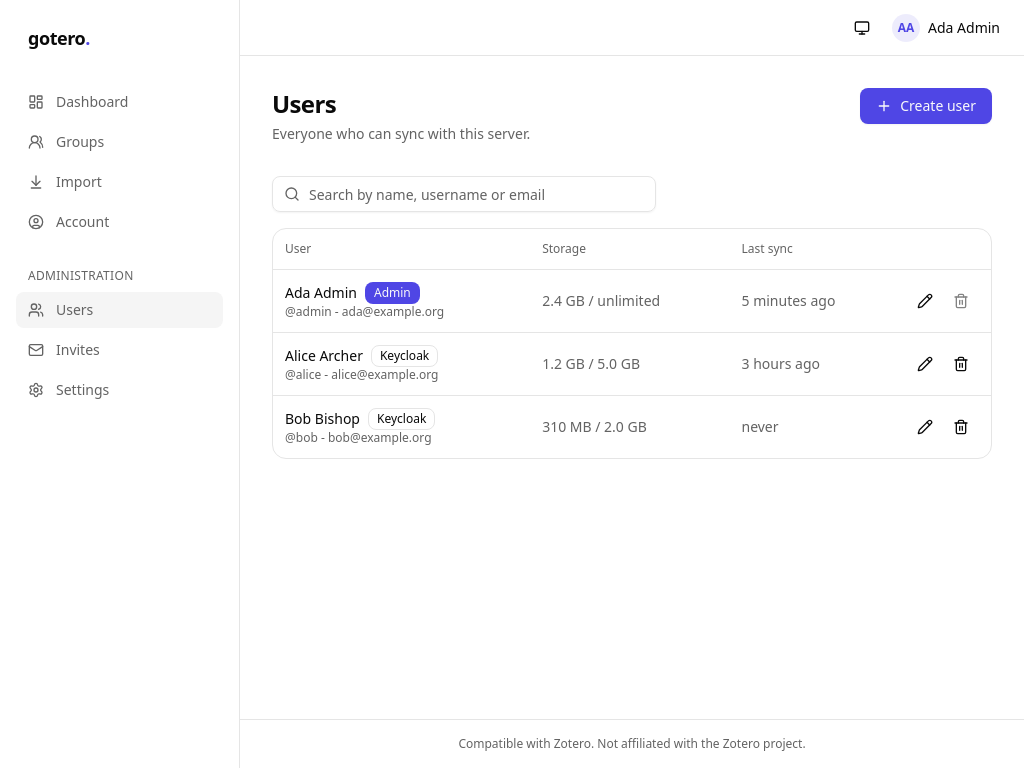
it: admin users › requires typing the username to delete a user
Click the button named "Delete bob".
click(961, 426)  # box [943, 408, 979, 444]
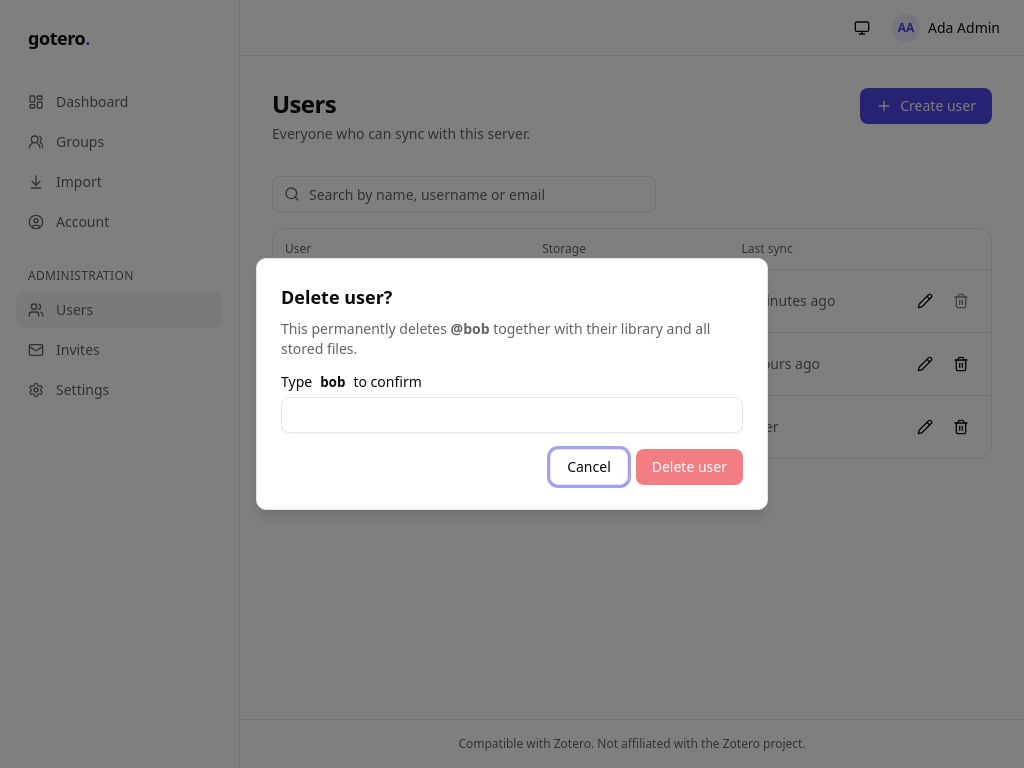
Result: the button "Delete user" is disabled at [636, 449, 743, 485]
Type "bob" into the field labelled "Type bob to confirm".
click(512, 415); type("bob")  # box [281, 397, 743, 433]
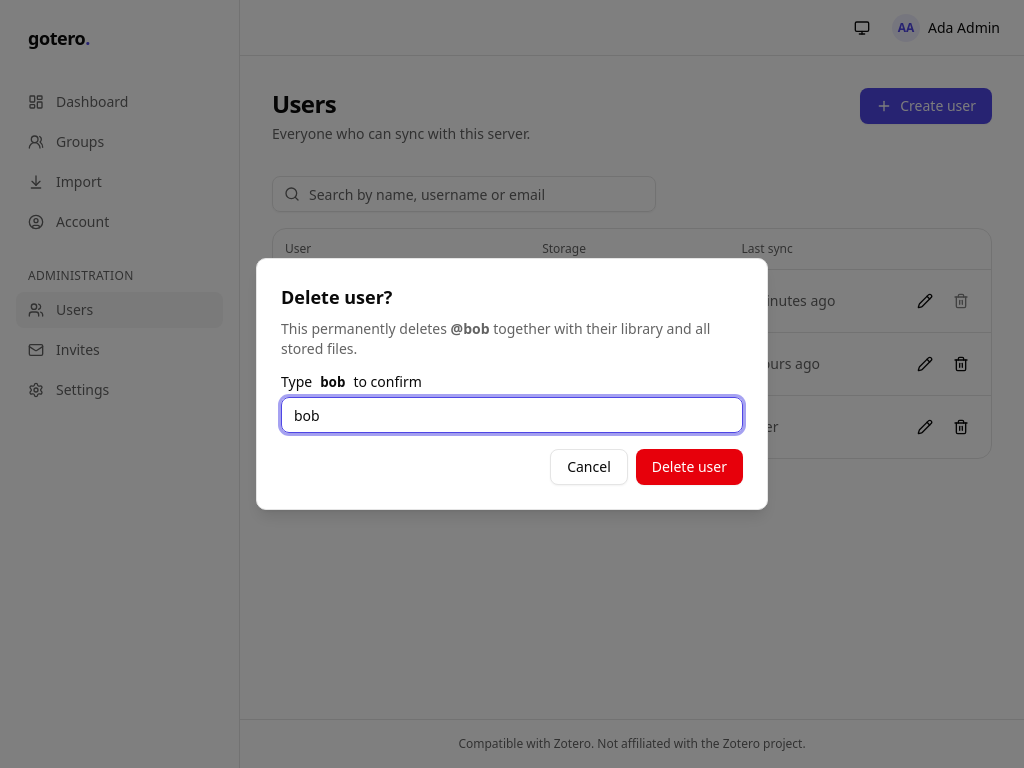
Result: the button "Delete user" is enabled
Click the button "Delete user".
click(689, 467)  # box [636, 449, 743, 485]
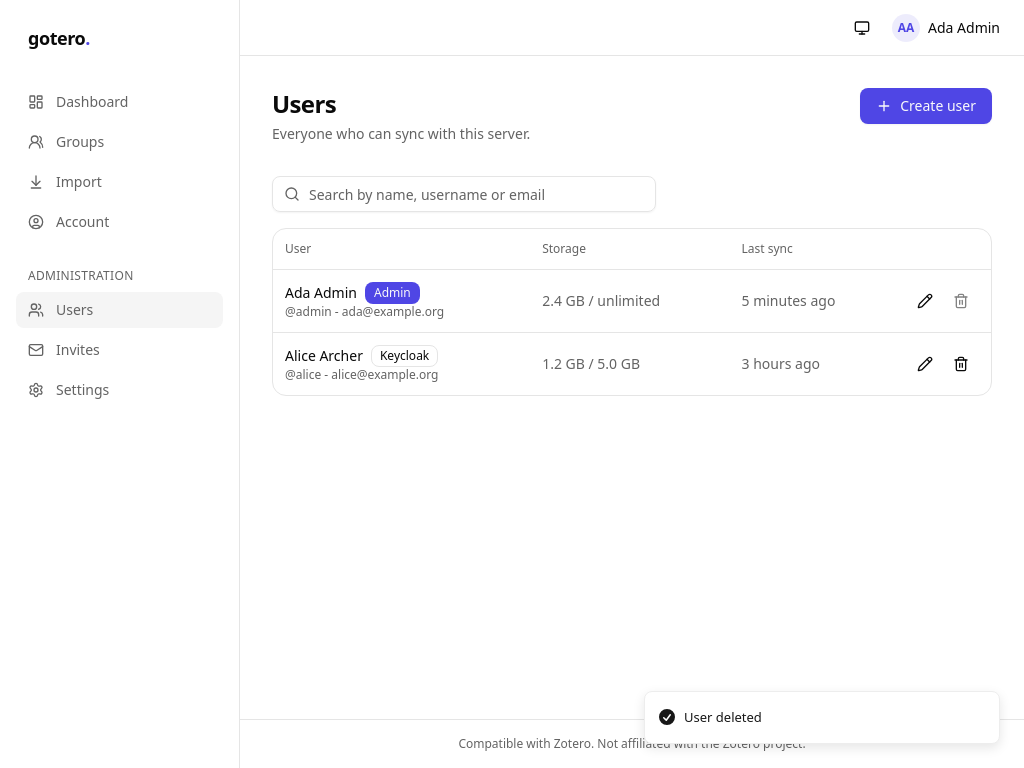
Result: the text "User deleted" is shown at [684, 708, 762, 727]
